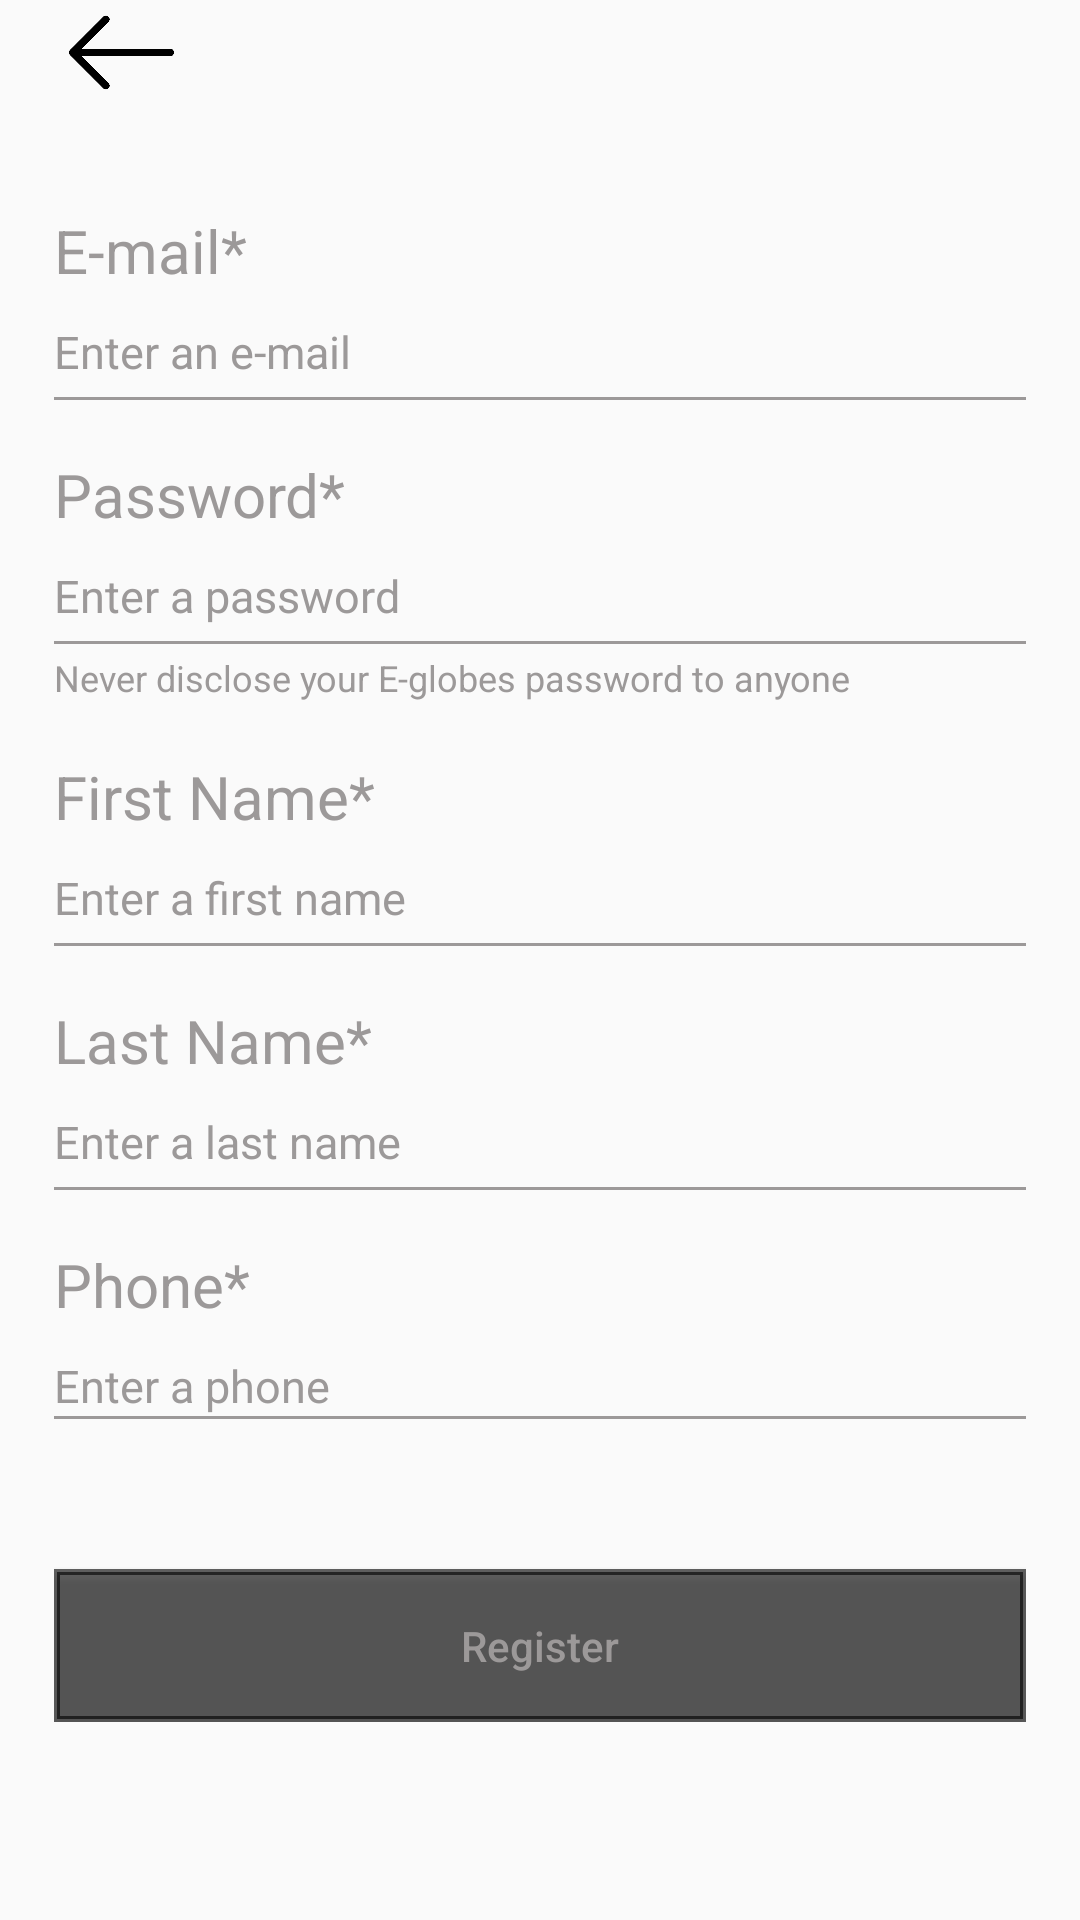

Named icons in this screenshot (1080px×1920px) and their centers, (x,y):
left: (121,52)
